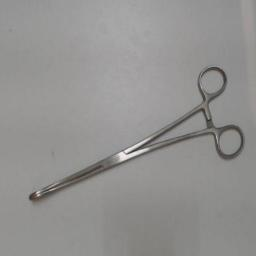Sponge Forceps: (24, 62, 248, 208)
